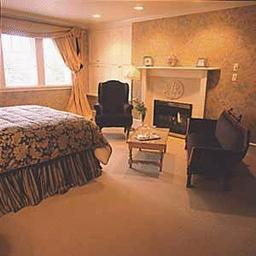Cama: (2, 105, 105, 201)
Ventana: (3, 27, 77, 90)
